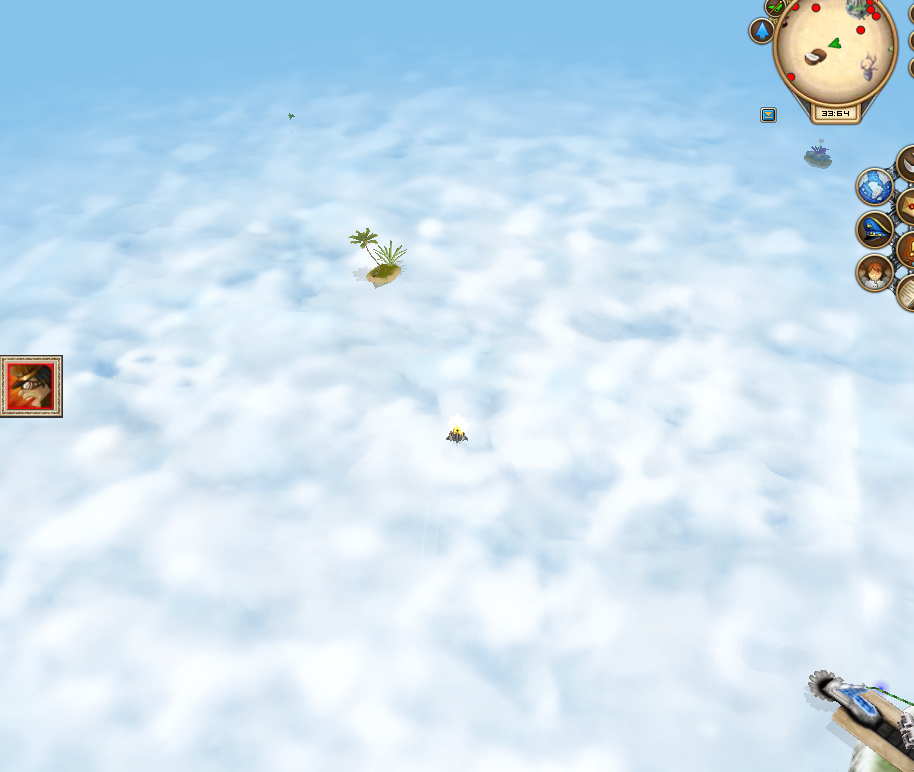palm: (343, 224, 410, 290)
